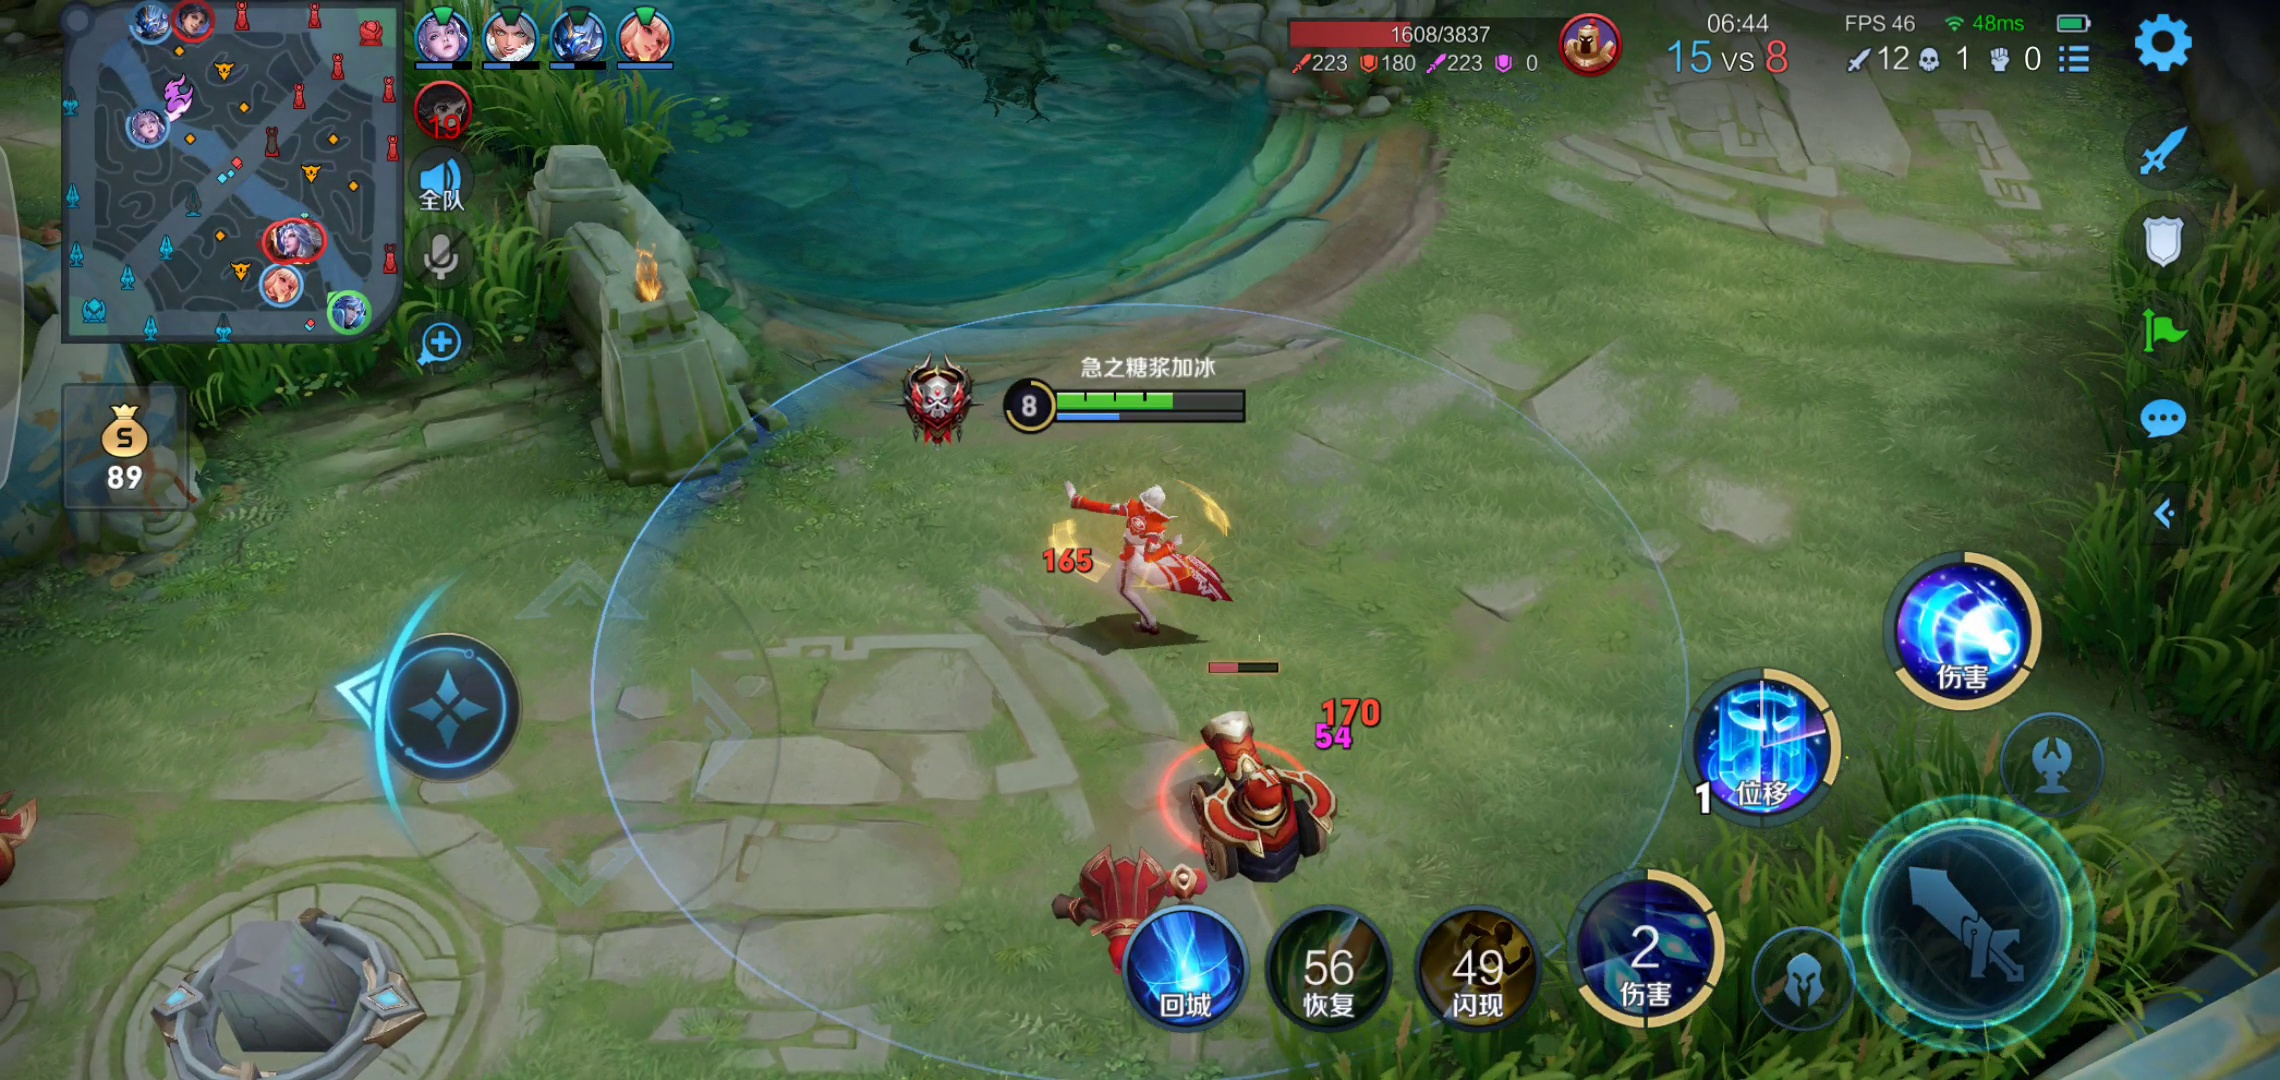grass: (1634, 788, 2164, 1080), (2081, 203, 2273, 738), (173, 225, 563, 416)
hero: (1032, 459, 1256, 645)
soldier: (1173, 706, 1338, 871), (1019, 840, 1213, 972)
tower: (140, 894, 439, 1077)
